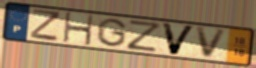G: (94, 17, 129, 48)
H: (62, 11, 96, 47)
V: (160, 21, 198, 57), (195, 26, 230, 60)
Z: (125, 18, 164, 54), (28, 8, 62, 43)
